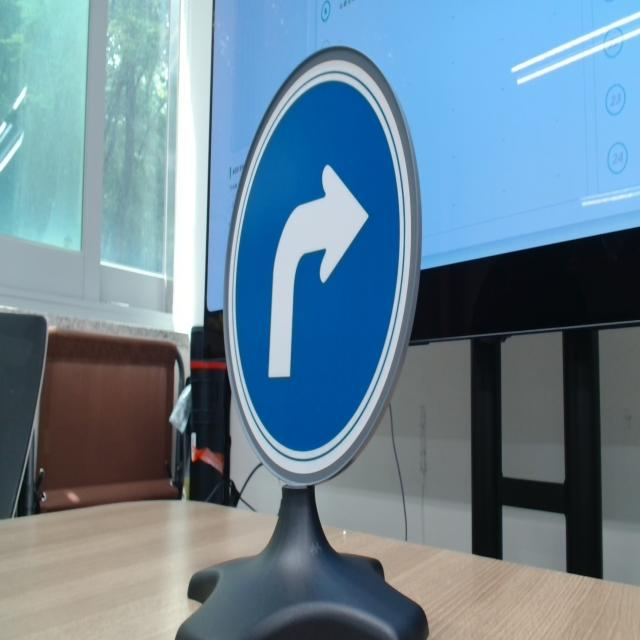right_dierection: (220, 44, 426, 493)
